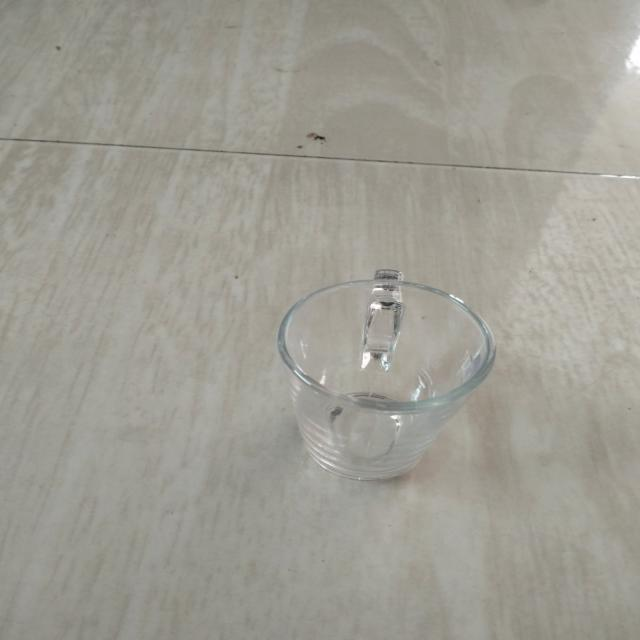glass-VX4N: (275, 269, 493, 482)
